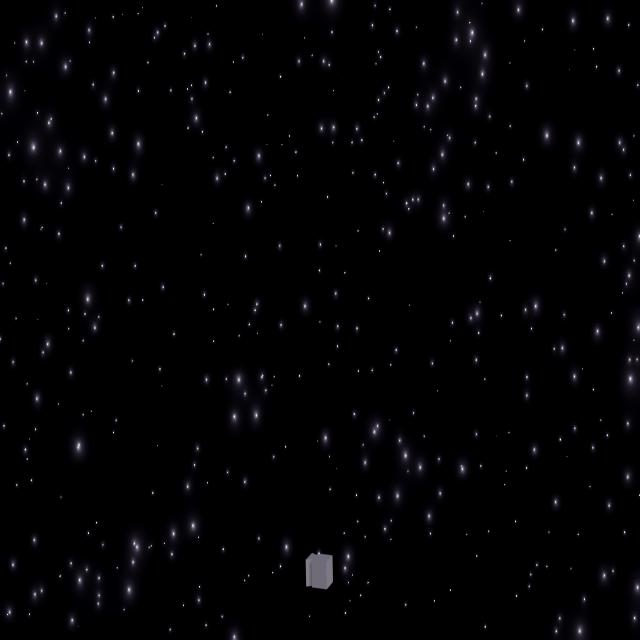large_debris: (301, 550, 334, 599)
